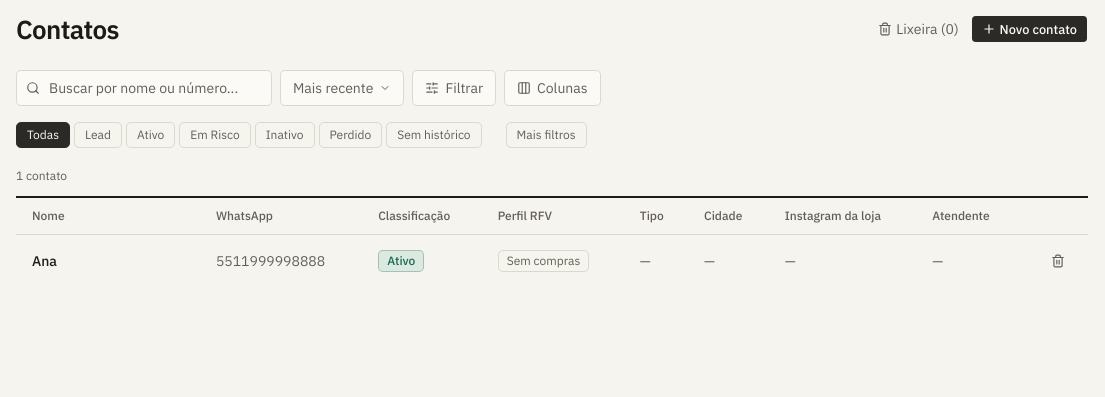
B38-02 — campos no Chat, no cadastro e na lista › CA-B38-66: should deixar o Nome fora do botão Colunas e mostrar o campo novo com o CNPJ ainda escondido
This screenshot has width=1105, height=397.
Click the button "Colunas".
click(552, 88)  # box [504,70,601,106]
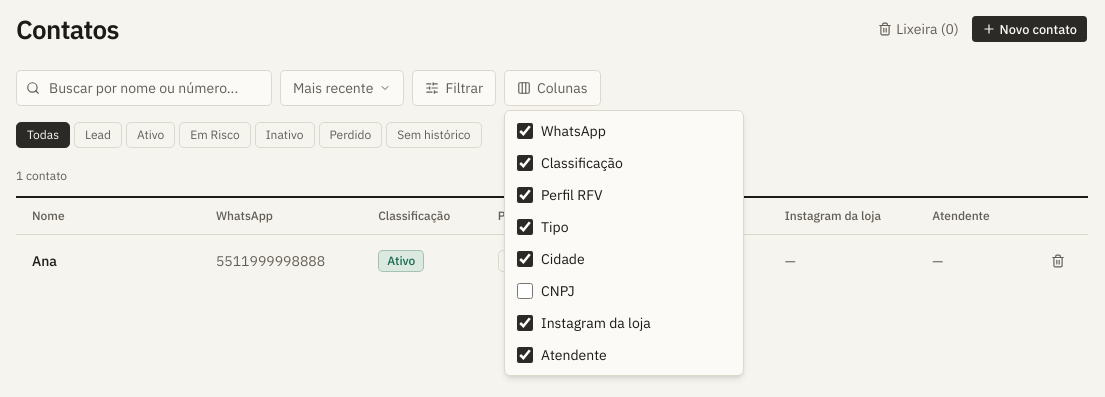
Result: the checkbox labelled "CNPJ" is not checked at [517,282,533,298]
Result: the checkbox labelled "Instagram da loja" is checked at [517,314,533,330]
